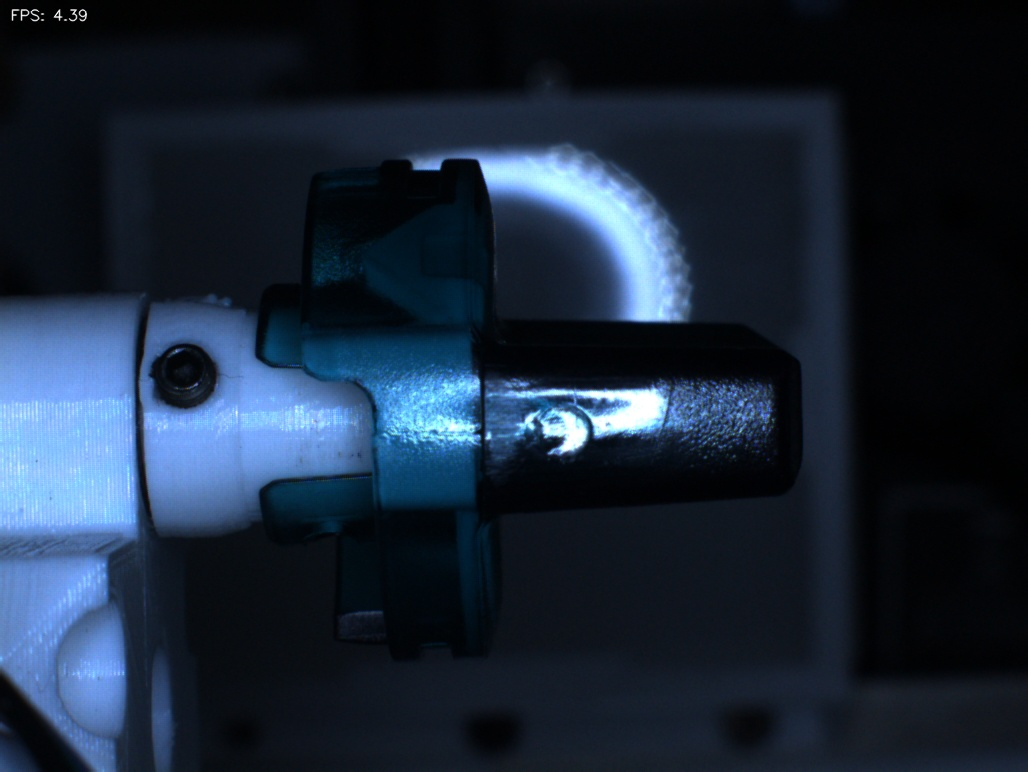DentOk: (335, 213, 412, 315)
